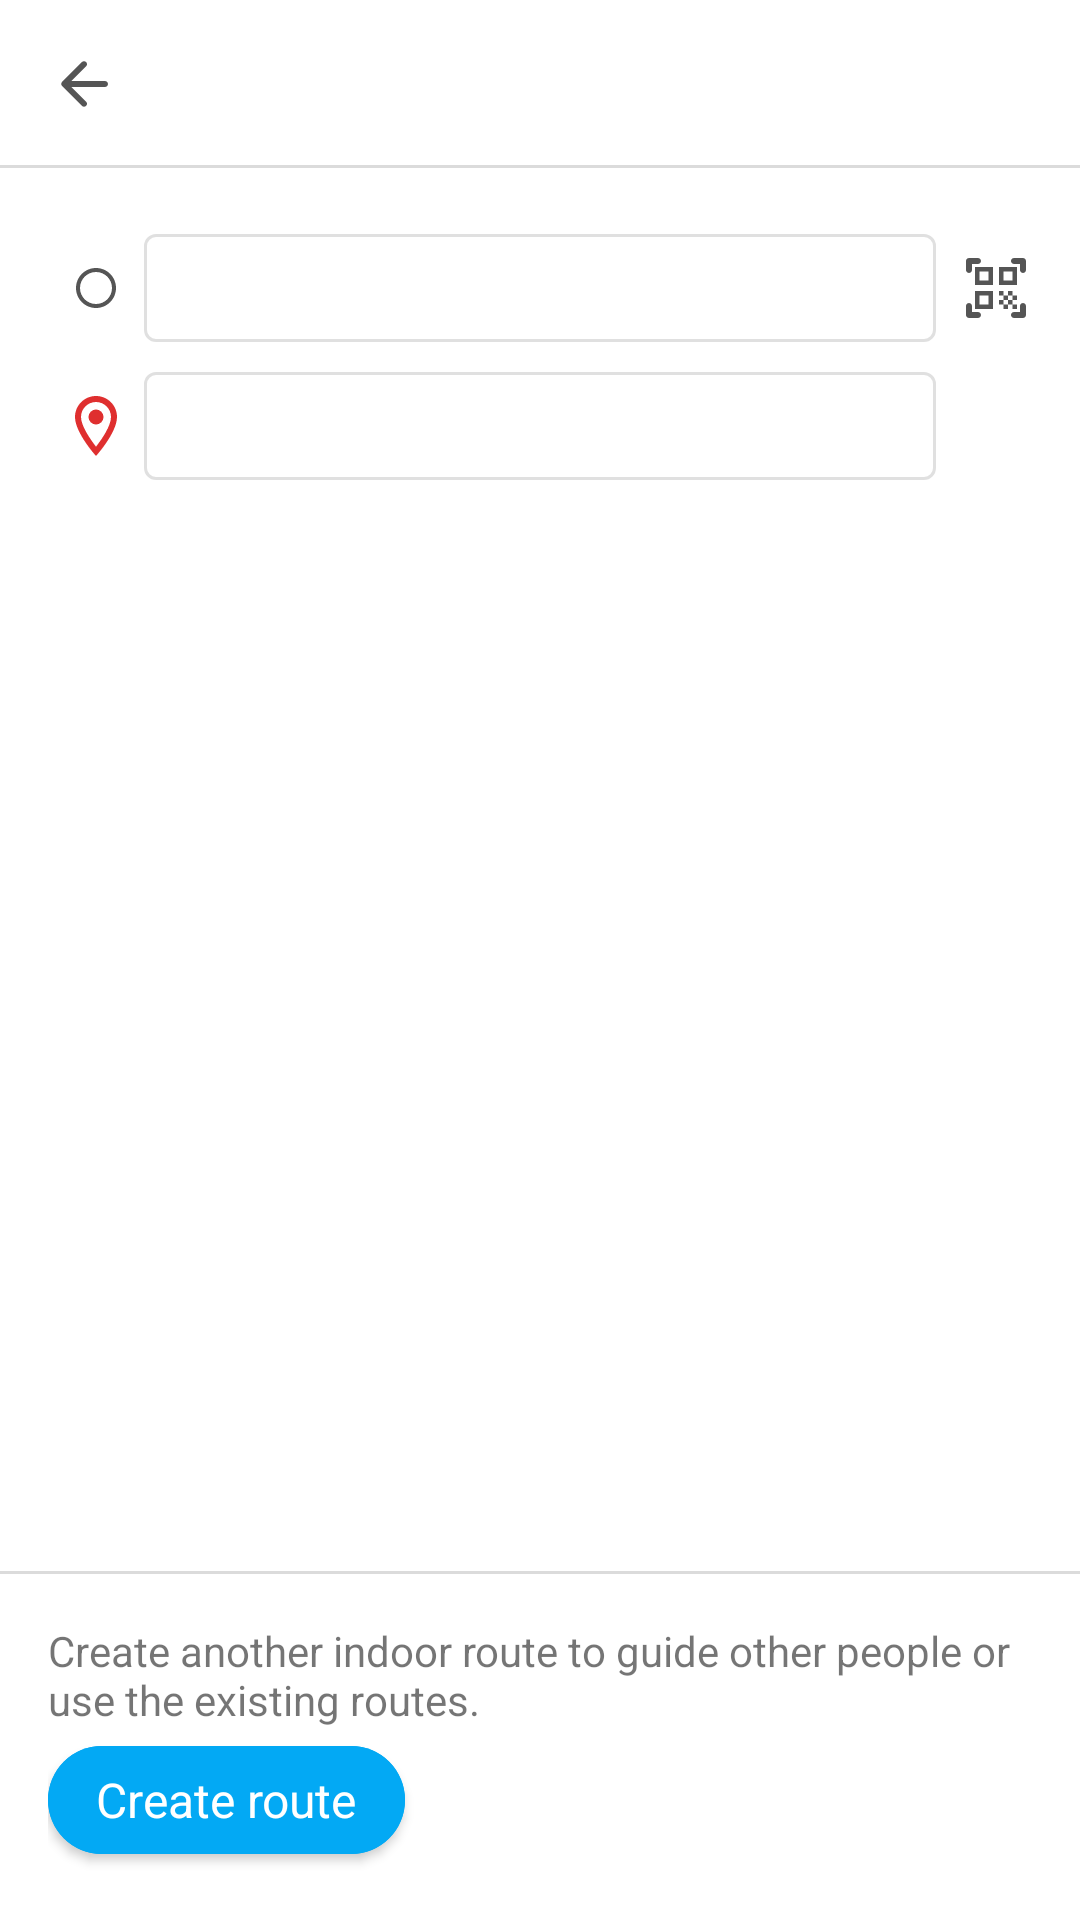

Where icons sit on this 1080px×1920px app screen, as (x1, y1, x2, y2):
circle: (76, 268, 116, 308)
location on: (75, 396, 117, 456)
qr code scanner: (966, 258, 1026, 318)
